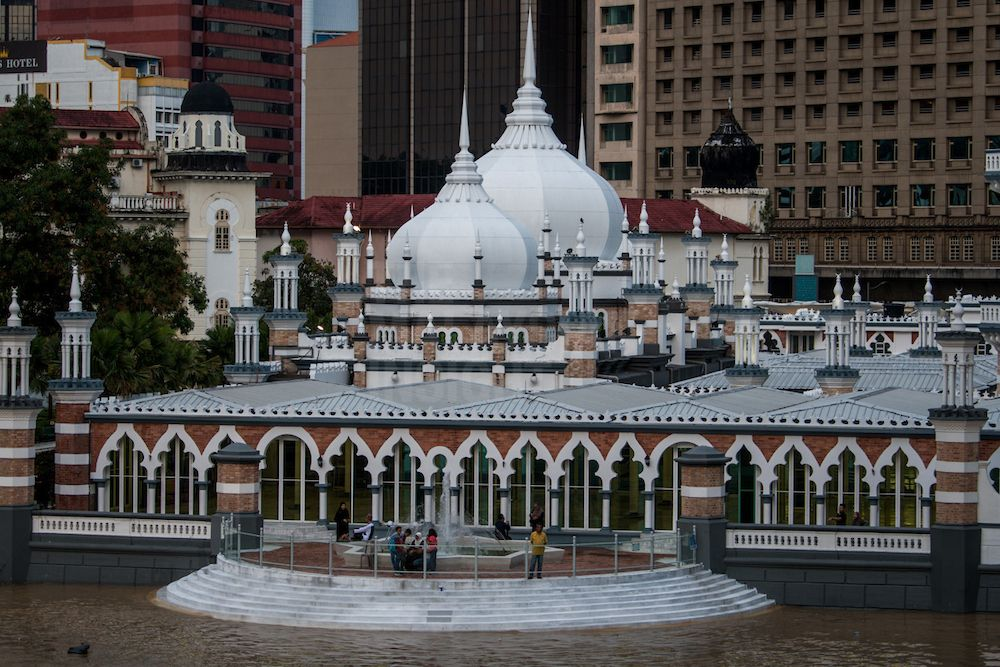Mosque: (66, 12, 983, 550)
